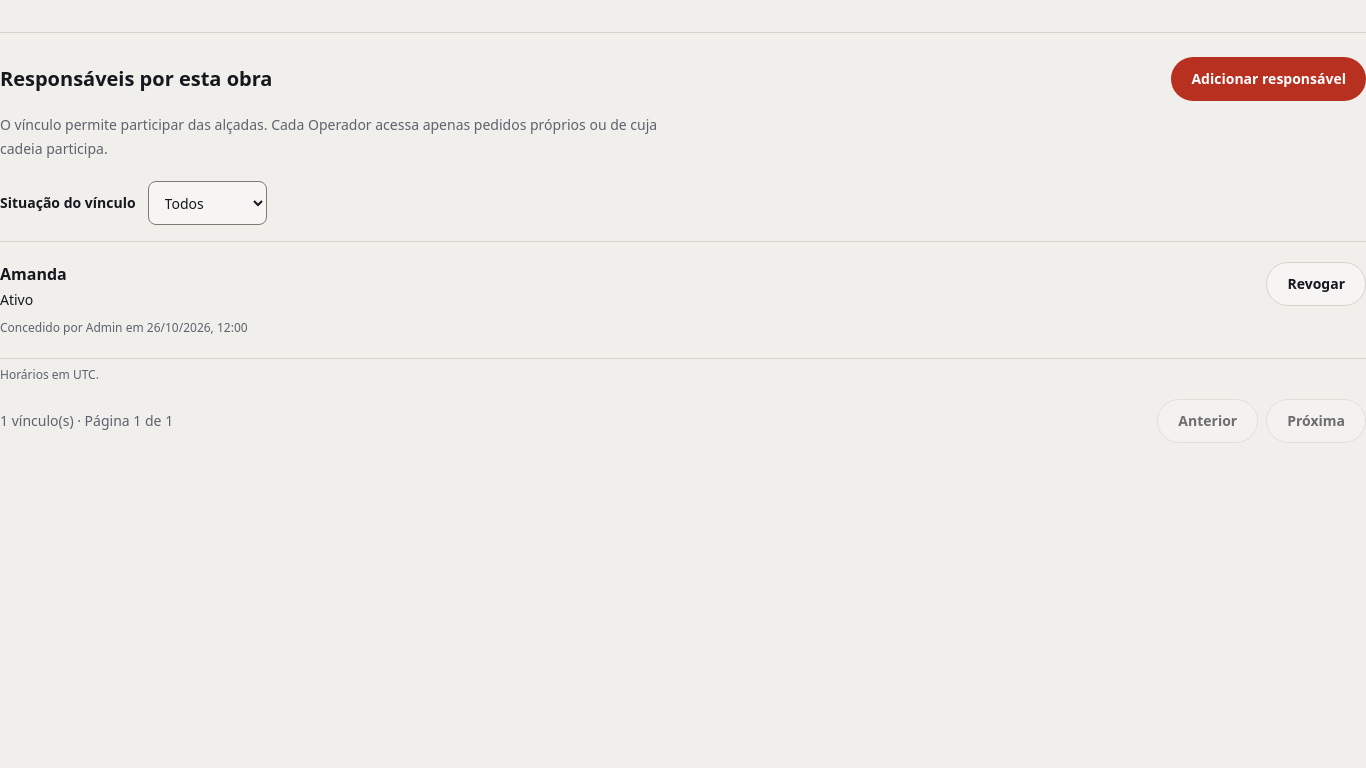
validates missing selection, handles selector failures and preserves choice after uncertain mutation
Click the button "Adicionar responsável": (1269, 79) [1172,57,1365,101]
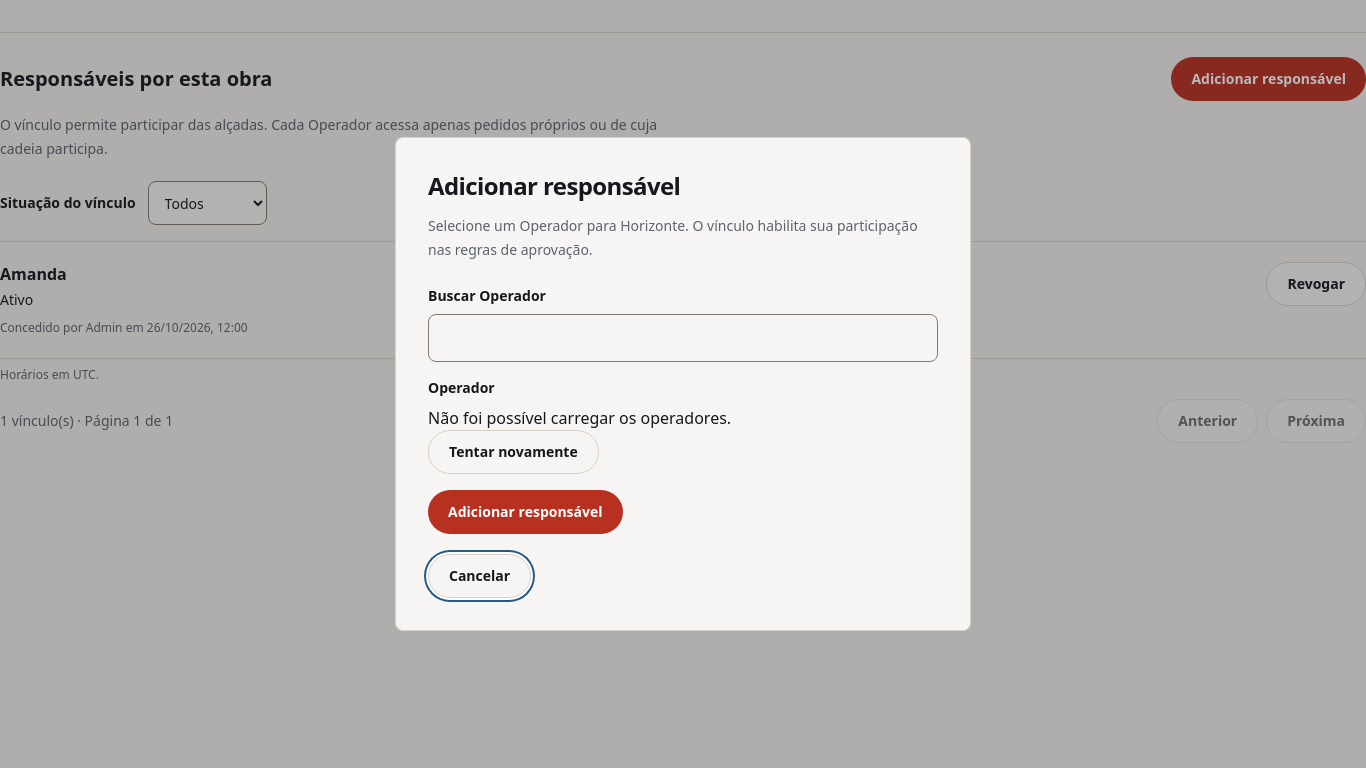
Now the text "Não foi possível carregar os operadores." is shown, box [428,407,731,429]
Click the button "Tentar novamente": (513, 452) [428,430,599,474]
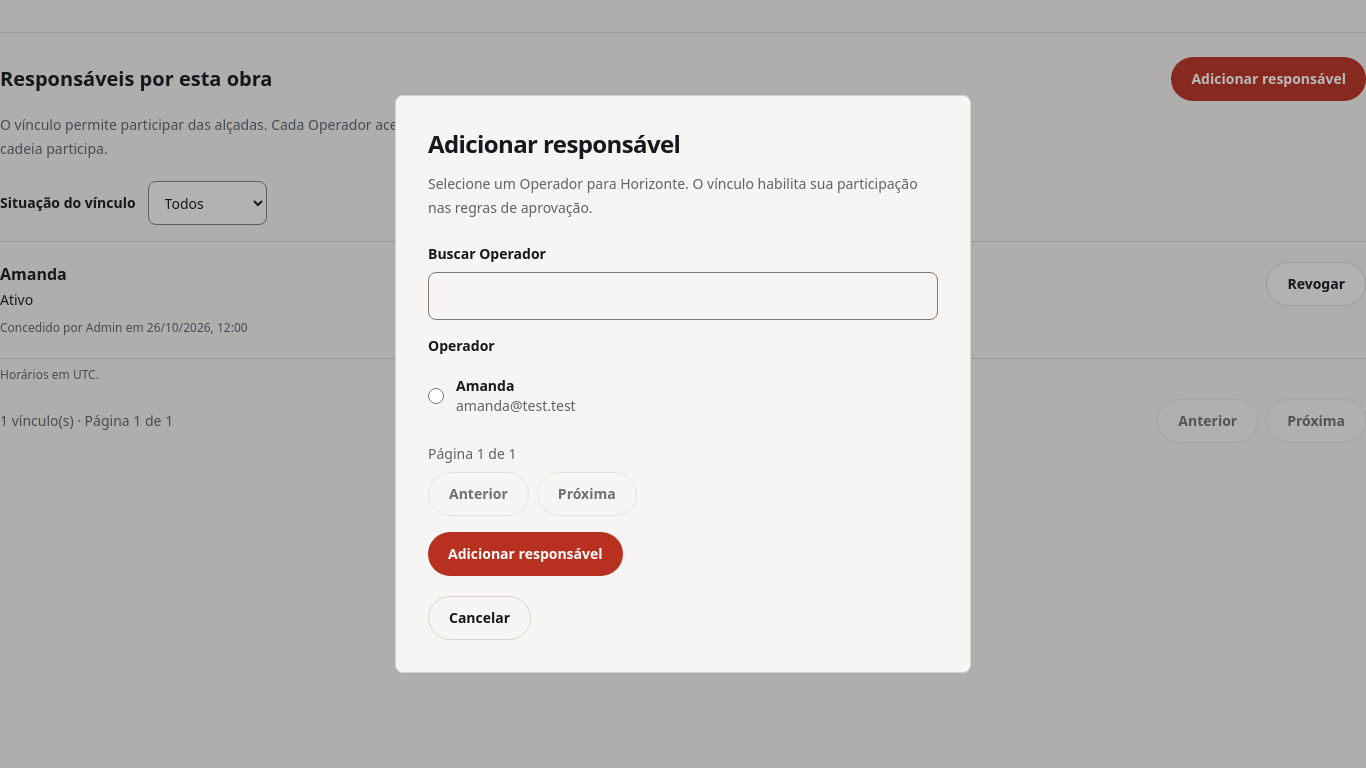
Click the button "Adicionar responsável": (525, 554) [428,532,622,576]
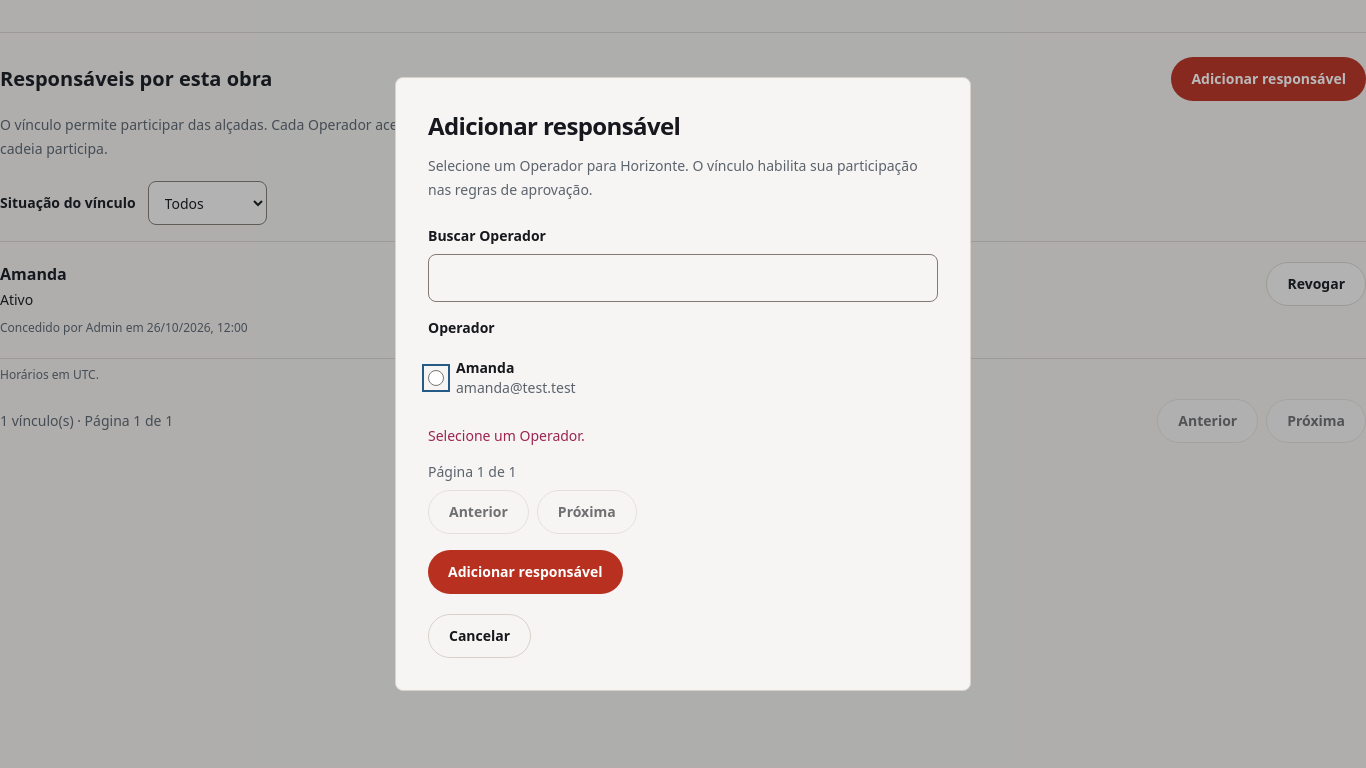
Now the text "Selecione um Operador." is shown, box [428,426,585,445]
Click the radio button labelled "Amanda amanda@test.test": (436, 378) [428,370,444,386]
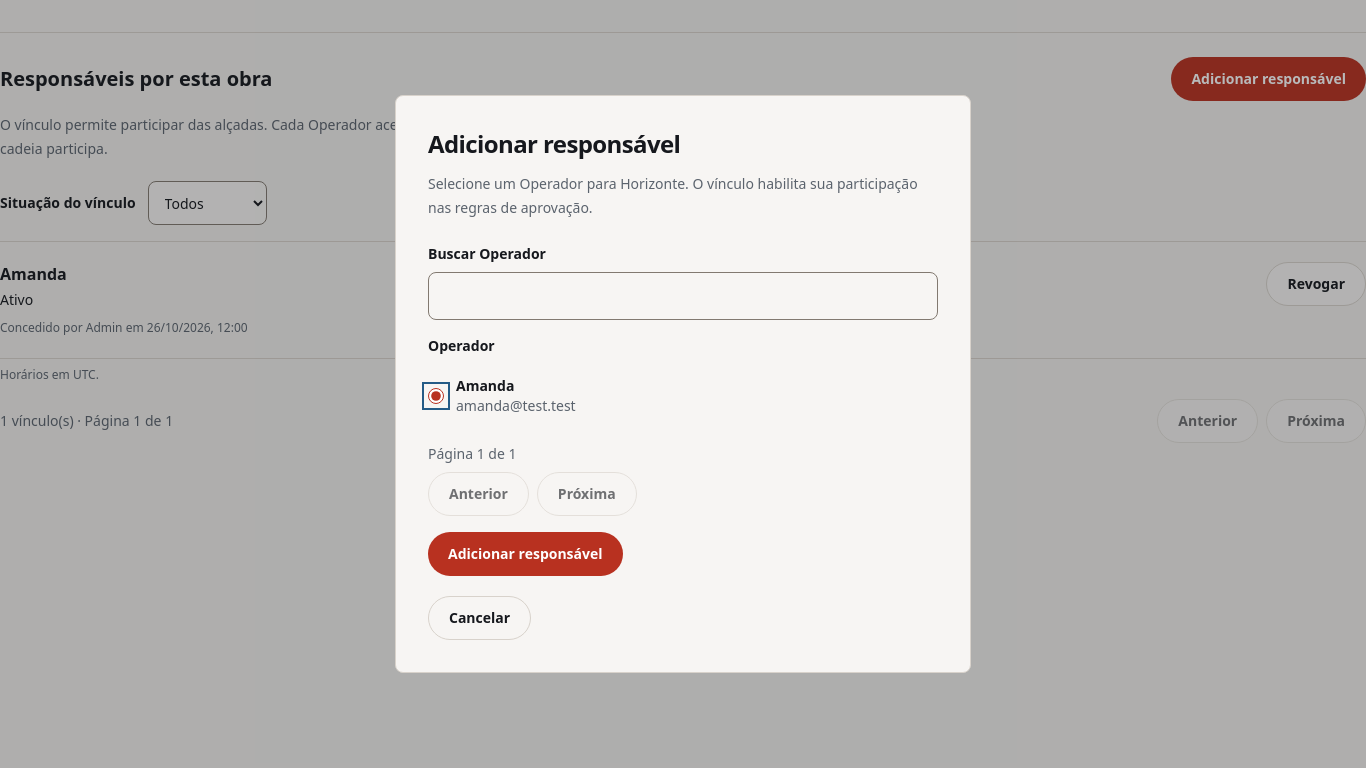
Click the button "Adicionar responsável": (525, 554) [428,532,622,576]
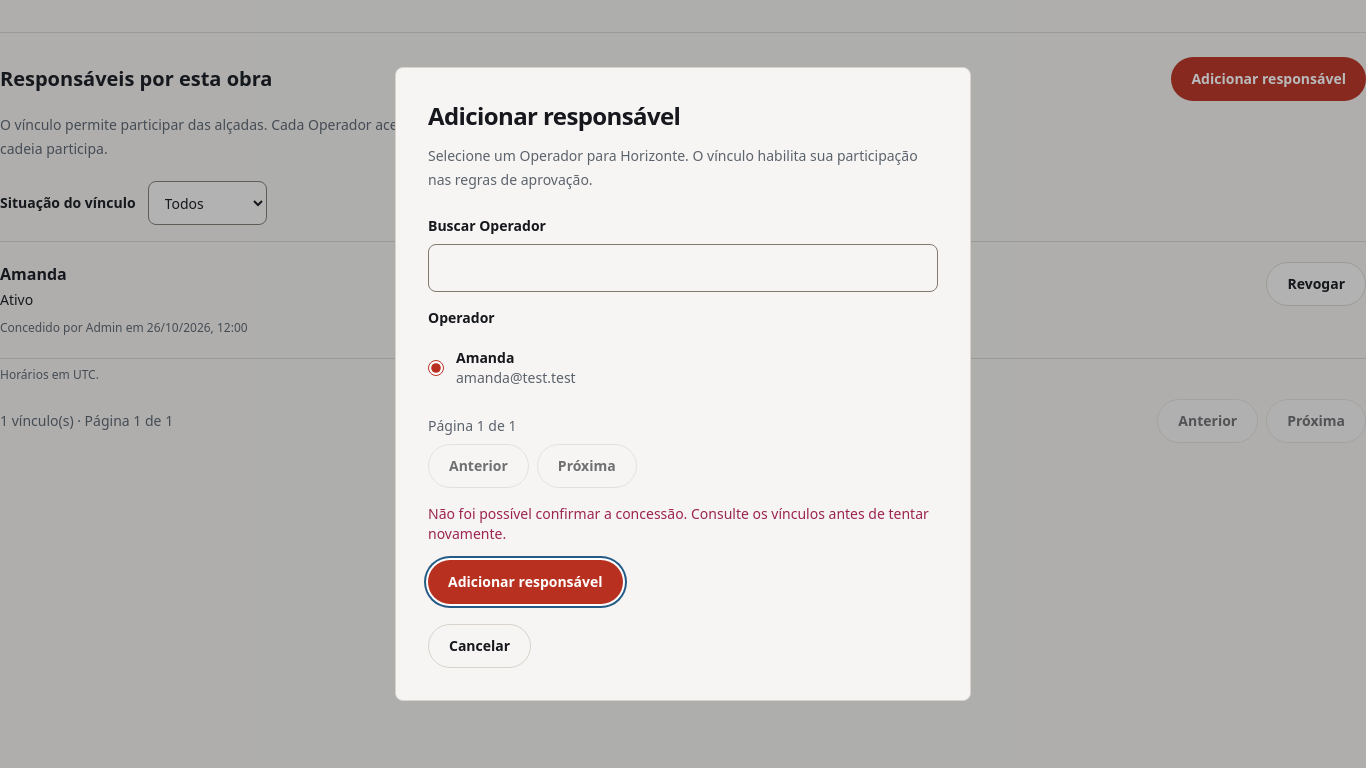
Now the radio button labelled "Amanda amanda@test.test" is checked, box [428,360,444,376]
Now the text "Consulte os vínculos antes de tentar novamente" is shown, box [428,504,929,543]
